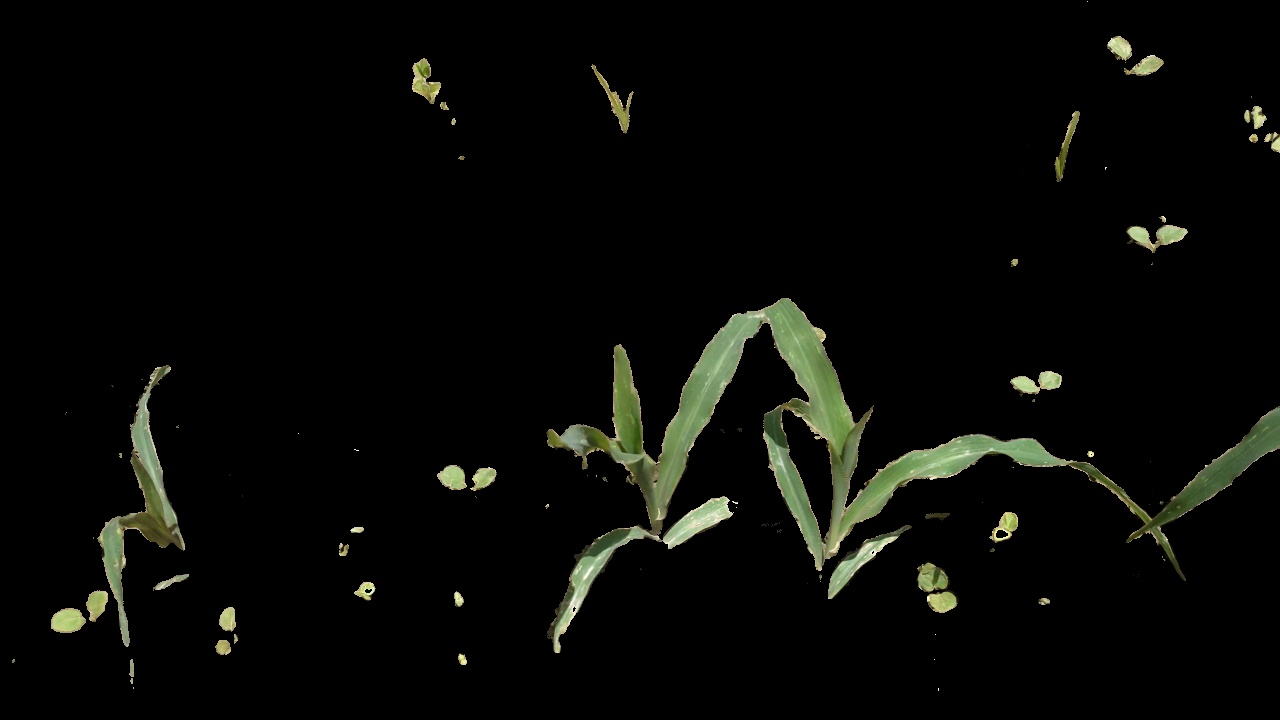crop: (760, 295, 1188, 632), (549, 288, 769, 645), (88, 317, 220, 614)
weed: (583, 53, 649, 136), (1034, 105, 1083, 192), (399, 63, 467, 123), (35, 587, 111, 629), (1105, 30, 1170, 78), (1115, 219, 1195, 255), (420, 463, 502, 494), (913, 552, 952, 617), (1243, 100, 1280, 166), (215, 595, 246, 661), (1006, 369, 1060, 398), (343, 570, 391, 602), (992, 503, 1021, 550)
